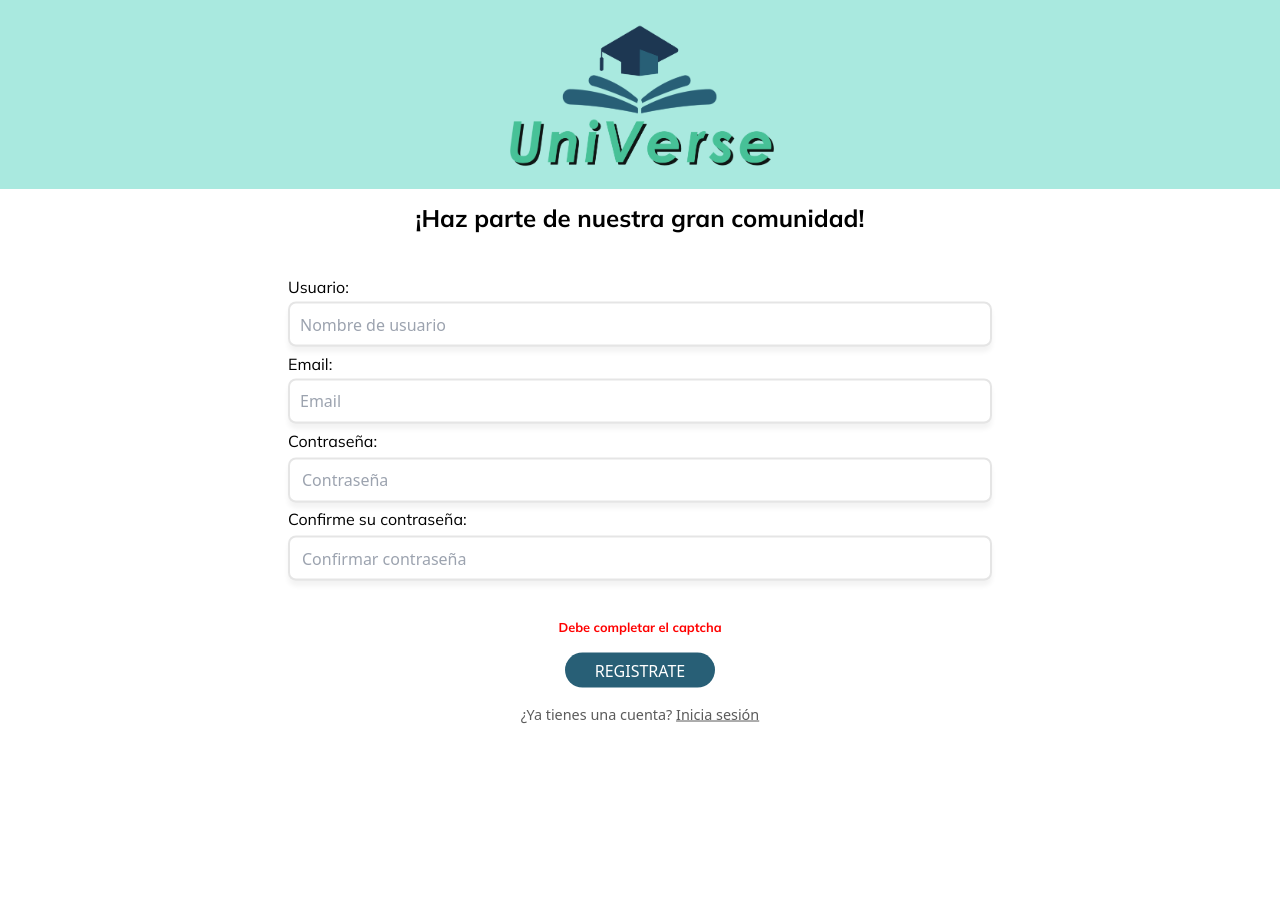
Test: Prueba de restricciones en los inputs › Muetra error con un usuario muy largo
Type "testsdddddddddddsssssssssssssssusa" into the field with placeholder "Nombre de usuario" at x=640, y=324, box [288,302,992,346]
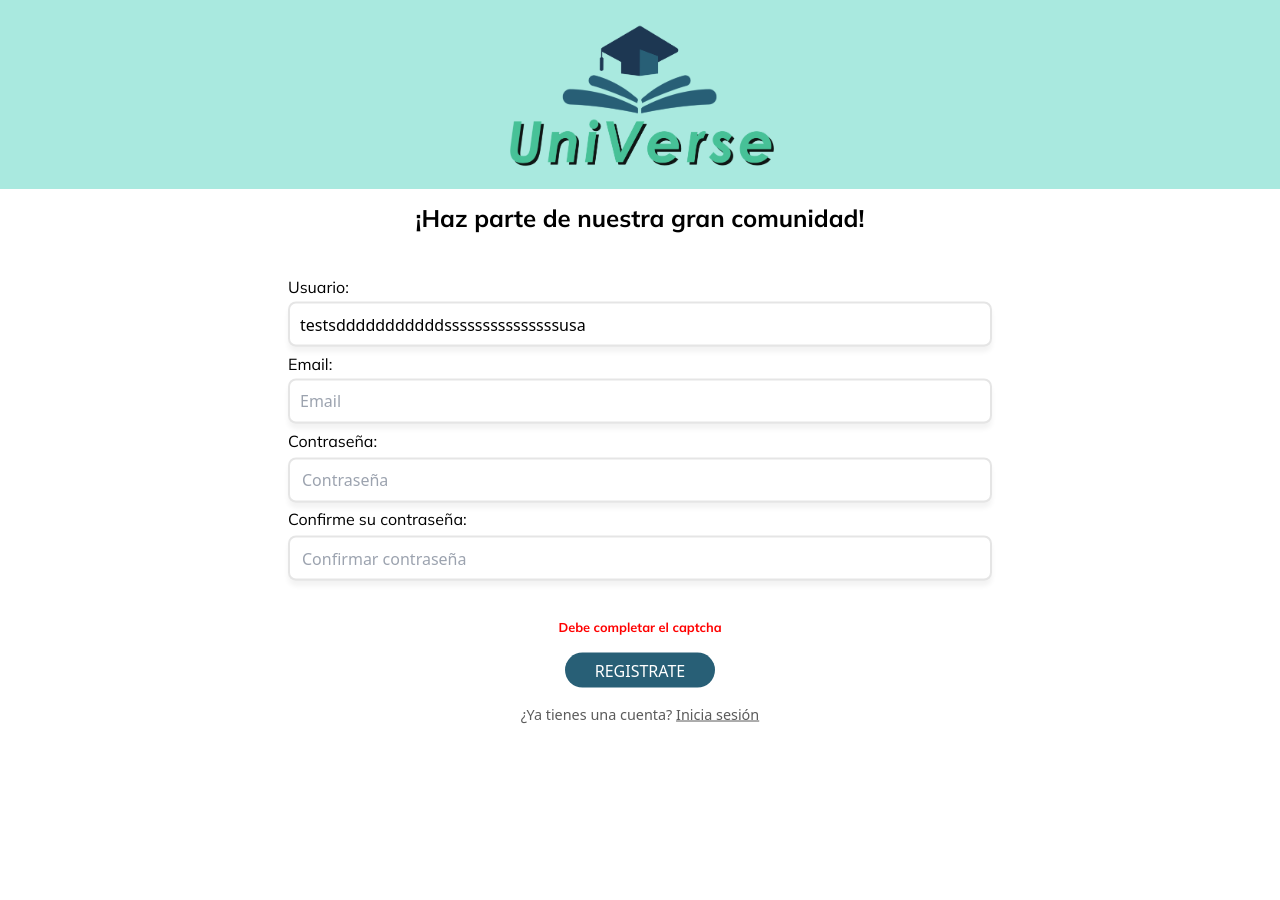
Click the button "REGISTRATE" at x=640, y=670, box [565,653,715,688]
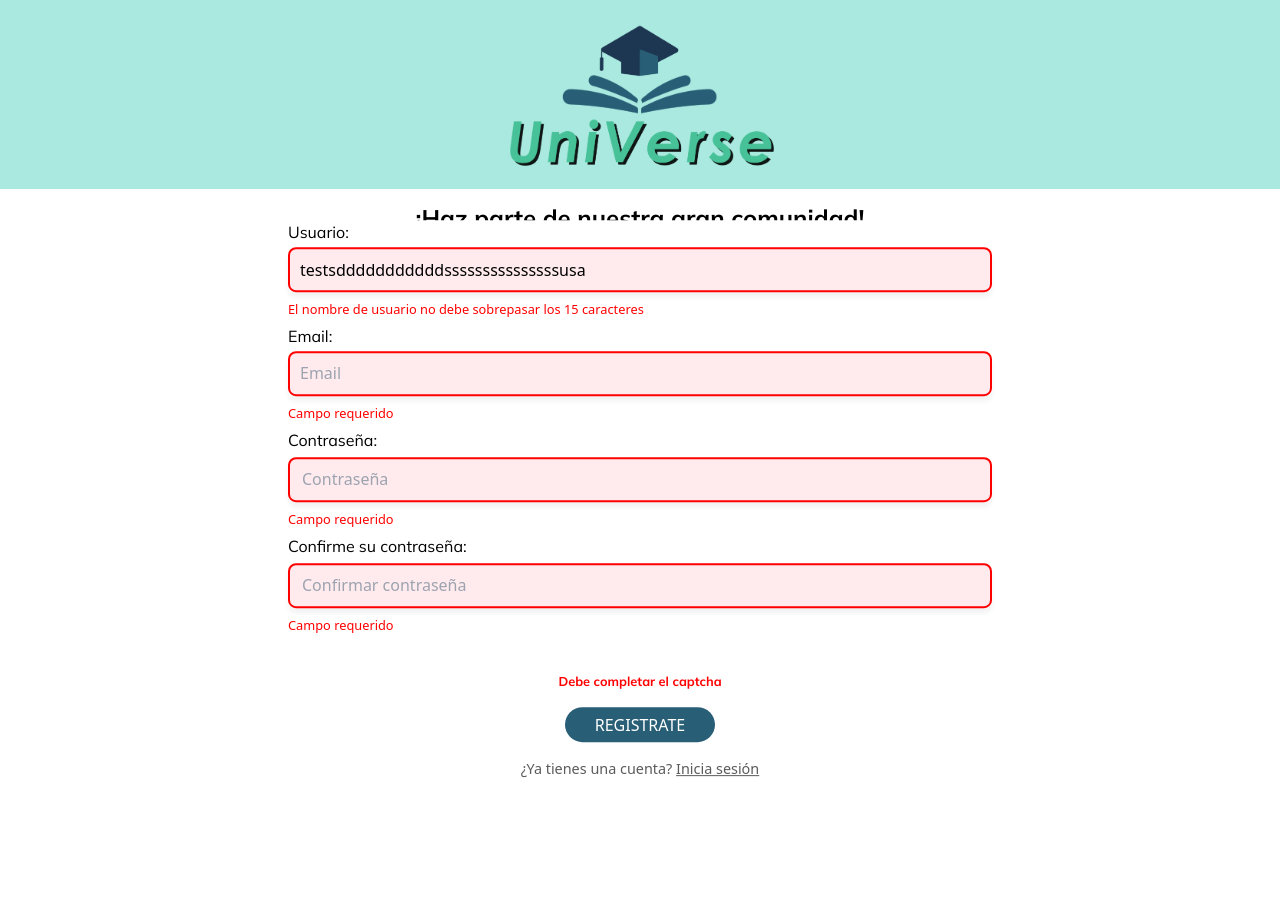
Check: the text "El nombre de usuario no debe sobrepasar los 15 caracteres" is shown, box [288,300,644,318]
